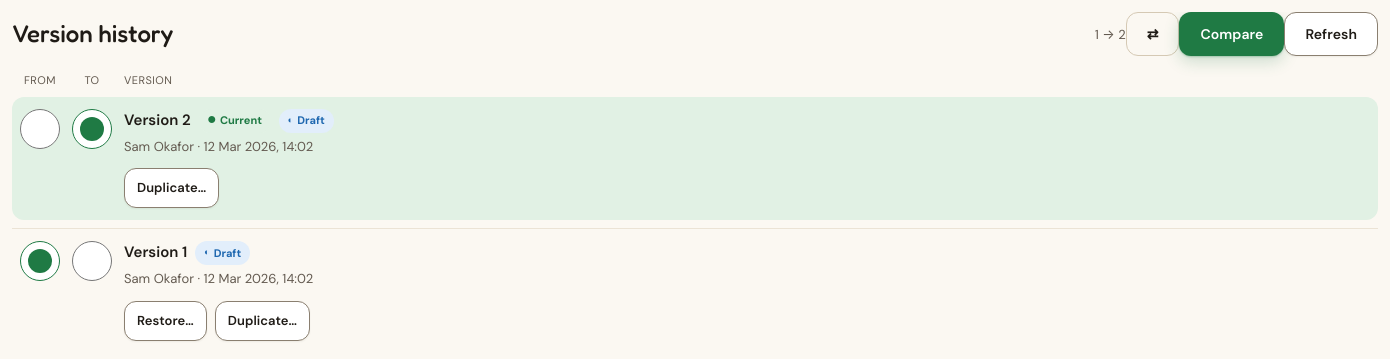
RecipeHistoryComponent › refuses a second comparison while one is in flight
What coordinates should you click on to do the following:
click the button "Compare"
I would click on:
 (1232, 34)
Its box is [1180,12,1284,56].
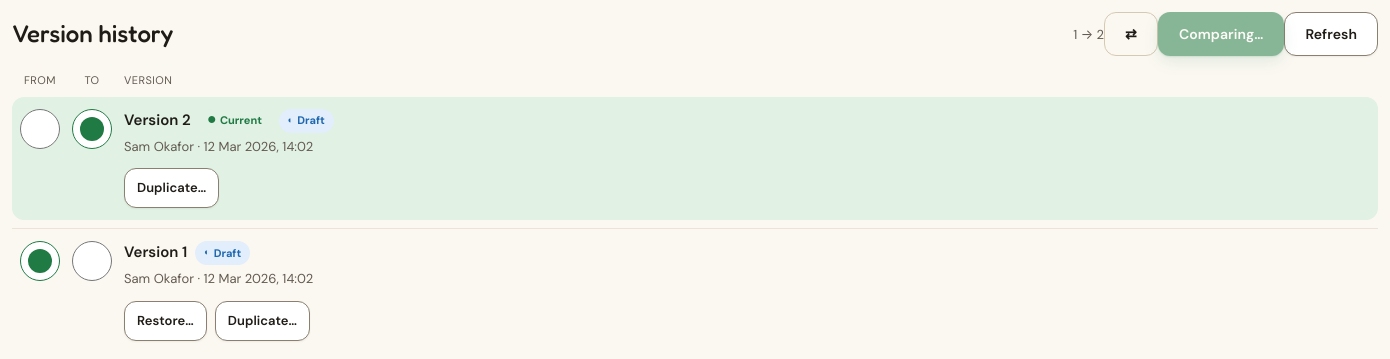
Expected: the button "Comparing…" is disabled, [1158,12,1284,56]
